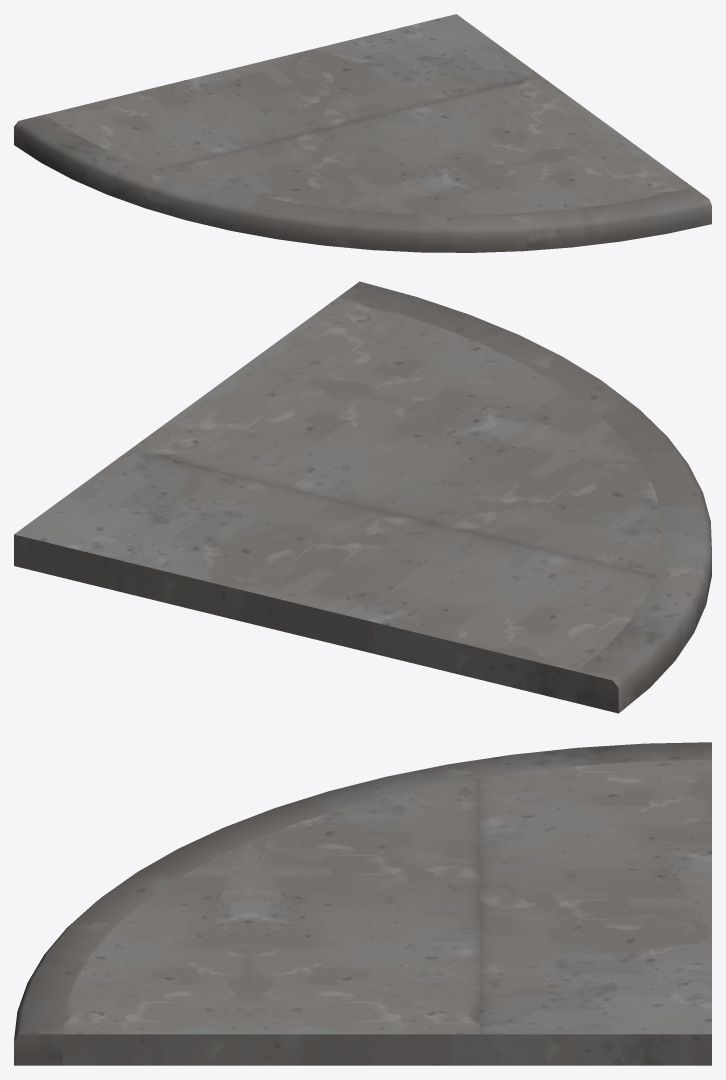
Rendered from Sidewalk_Corner_Round_3m.gltf.
3 views of the same model, one above another, from view 1: azimuth 30°, elevation 25°; view 2: azimuth 150°, elevation 25°; view 3: azimuth 270°, elevation 25° (orthographic). The views are drawn at different scales.
Visible parts, largest first — view 1: Sidewalk_Corner_Round_3m; view 2: Sidewalk_Corner_Round_3m; view 3: Sidewalk_Corner_Round_3m.
Part boxes in pixels (x1,y1,x2,y2): Sidewalk_Corner_Round_3m: (14,14,711,252); Sidewalk_Corner_Round_3m: (14,281,711,713); Sidewalk_Corner_Round_3m: (14,742,711,1065).
Bounding box in the file's own units: 3.01 × 0.15 × 3.01.
1 material, 1 textured.
